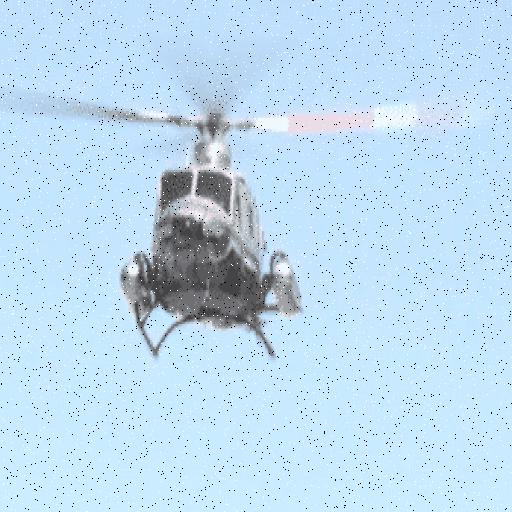helicopter: (91, 78, 362, 364)
